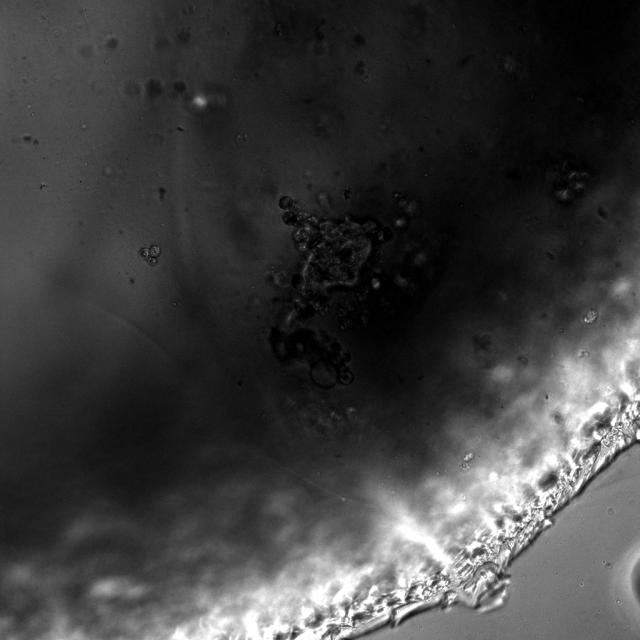organoid: (269, 195, 441, 388), (138, 244, 161, 266), (584, 307, 598, 324), (344, 188, 352, 201)
